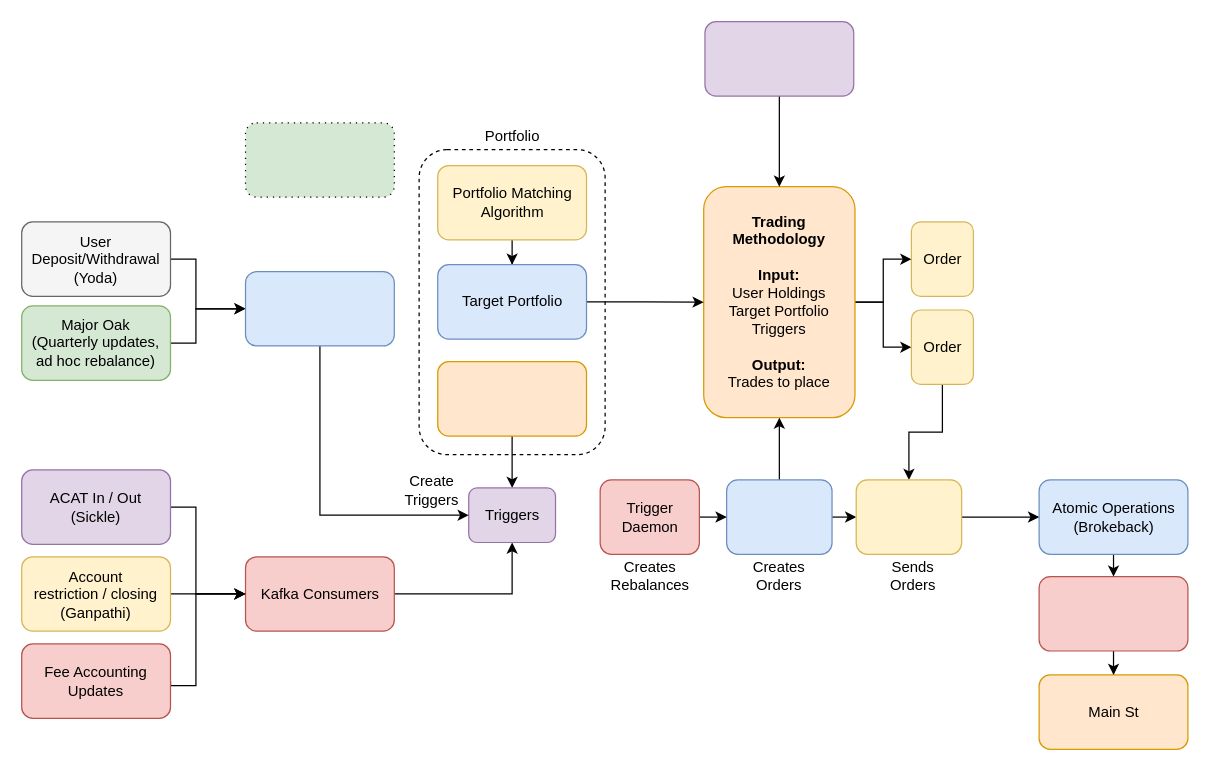
Some shapes in this 1210 by 771 pixel diagram are drawn without their labels. The shapes that lost their labels are listed below. From the top down, each one's box as (x1, y1, x2, y2) in pixels, then its label:
(704, 20, 854, 96): User Holdings (Portfolio service)
(244, 122, 394, 197): Advisory Rebalance Engine (Yoda)
(244, 270, 394, 346): GRPC Servers
(436, 360, 587, 436): Portfolio Drift (Yoda)
(725, 479, 832, 554): Rebalance Daemon
(855, 479, 962, 554): Order Daemon
(1038, 575, 1188, 651): Order Batcher
